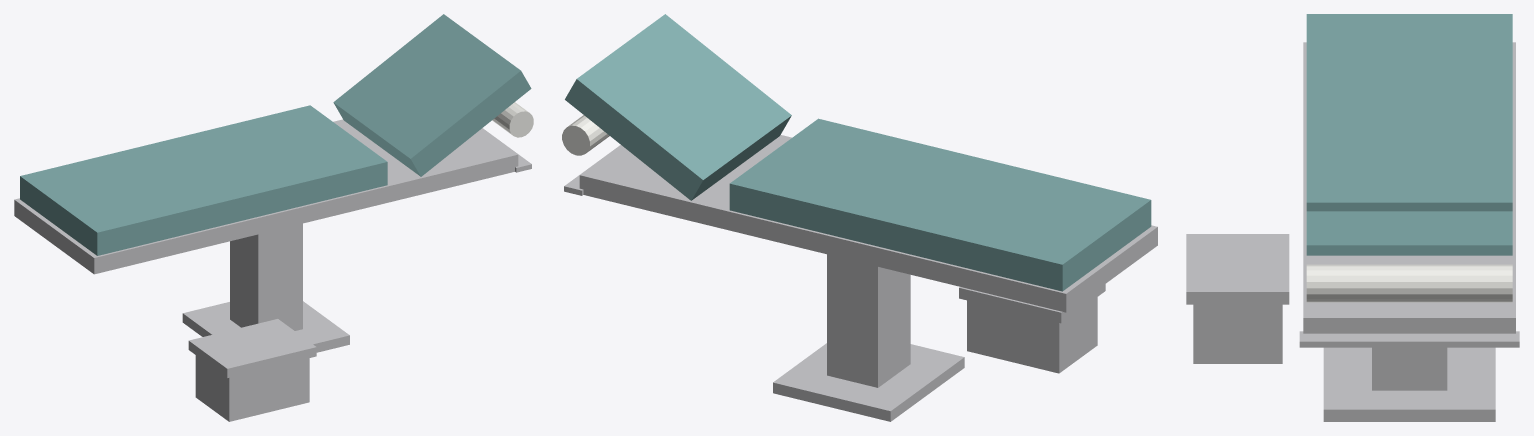
Rendered from SM_ExamTable.fbx.
3 renders of one model, left to right at view 1: azimuth 30°, elevation 25°; view 2: azimuth 150°, elevation 25°; view 3: azimuth 270°, elevation 25°, orthographic. The views are drawn at different scales.
Visible parts, largest first — view 1: SM_ExamTable; view 2: SM_ExamTable; view 3: SM_ExamTable.
Boxes of the visible parts, left/top/right/bottom form: SM_ExamTable: left=14, top=14, right=533, bottom=421; SM_ExamTable: left=562, top=14, right=1157, bottom=421; SM_ExamTable: left=1186, top=14, right=1519, bottom=421.
Bounding box in the file's own units: 197 × 97 × 102.
